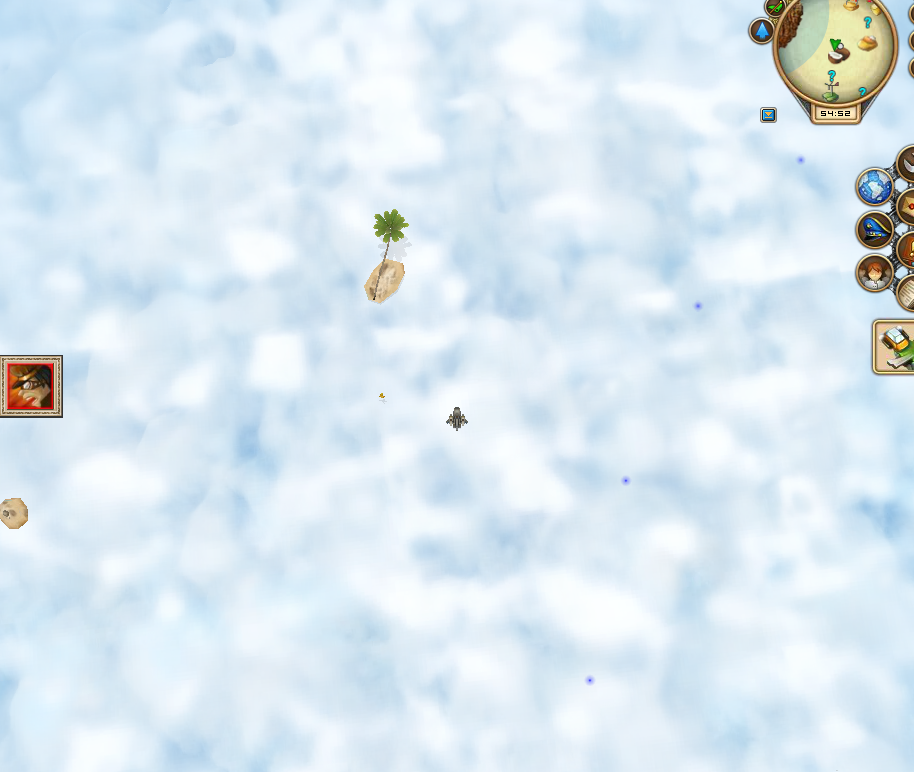palm: (352, 208, 415, 312)
